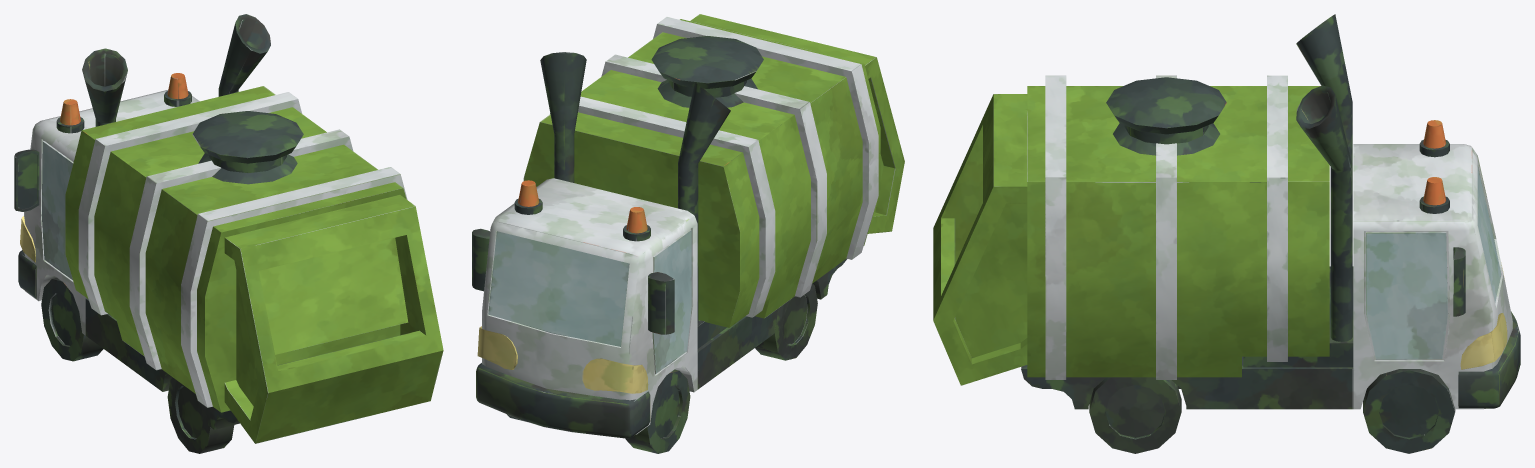
The model's file is Camion_Poubelle.fbx.
3 views of the same model, side by side, from view 1: azimuth 30°, elevation 25°; view 2: azimuth 150°, elevation 25°; view 3: azimuth 270°, elevation 25° (orthographic). The views are drawn at different scales.
Visible parts, largest first — view 1: Camion poubelle; view 2: Camion poubelle; view 3: Camion poubelle.
Boxes of the visible parts, x1=… form: Camion poubelle: x1=14, y1=14, x2=443, y2=453; Camion poubelle: x1=472, y1=14, x2=904, y2=453; Camion poubelle: x1=933, y1=14, x2=1520, y2=453.
Bounding box in the file's own units: 328 × 463 × 679.
